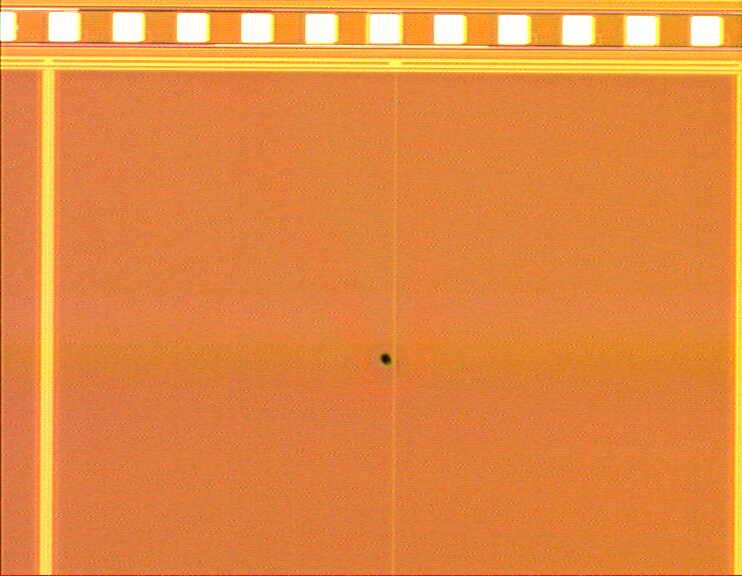PIQ PARTICLE: (370, 345, 398, 373)
